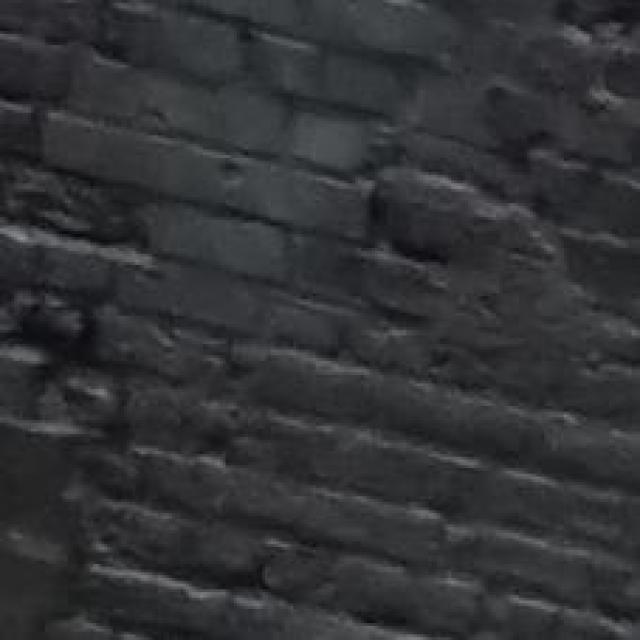Crack: (0, 69, 325, 640)
